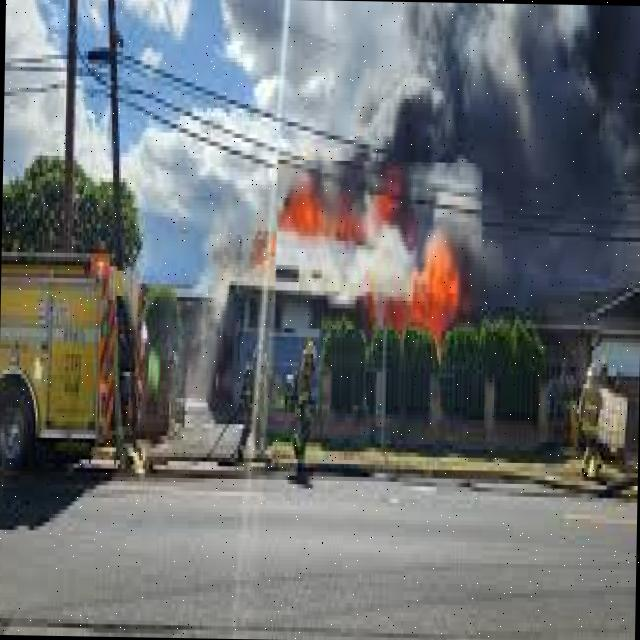fire: (274, 162, 482, 334)
